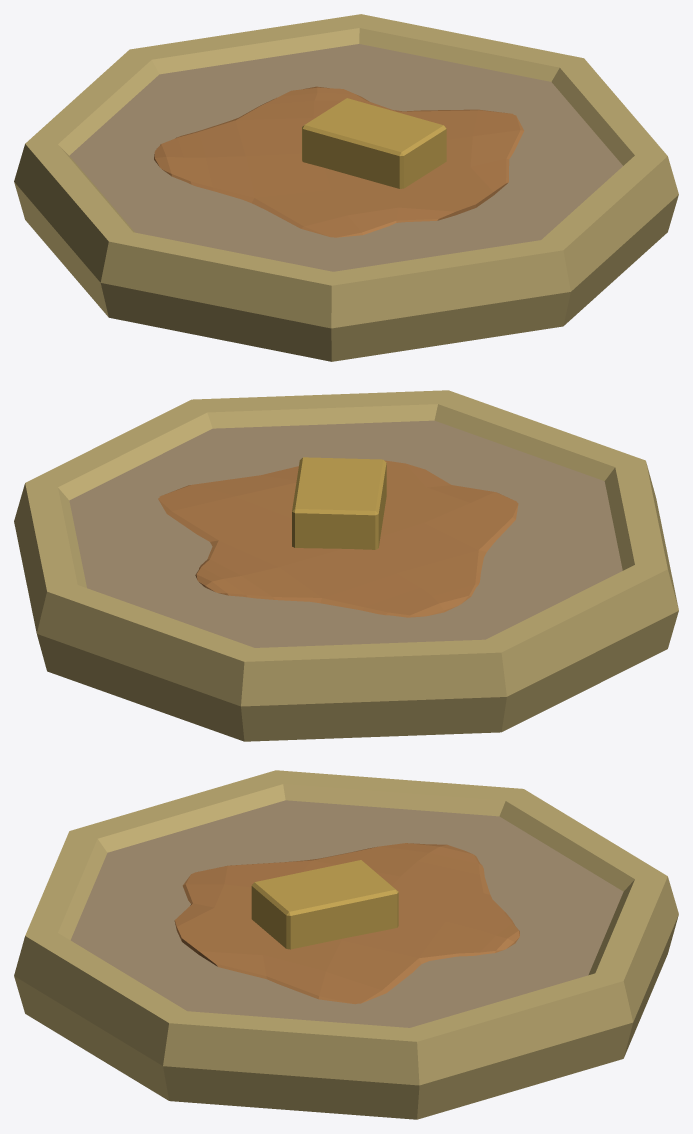
File: Pancake.glb
3 renders of one model, top to bottom at view 1: azimuth 30°, elevation 25°; view 2: azimuth 150°, elevation 25°; view 3: azimuth 270°, elevation 25°, orthographic. The views are drawn at different scales.
Visible parts, largest first — view 1: Pancake; view 2: Pancake; view 3: Pancake.
Boxes of the visible parts, x1=… form: Pancake: x1=14, y1=14, x2=678, y2=361; Pancake: x1=14, y1=390, x2=678, y2=741; Pancake: x1=14, y1=770, x2=678, y2=1119.
Size of the model in its own units: 1.44 by 0.2553 by 1.44.
